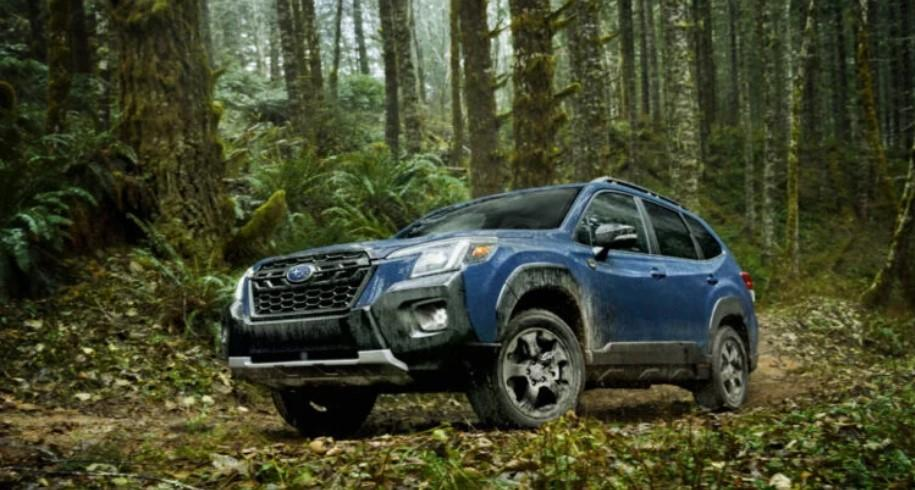subaru: (279, 260, 324, 286)
